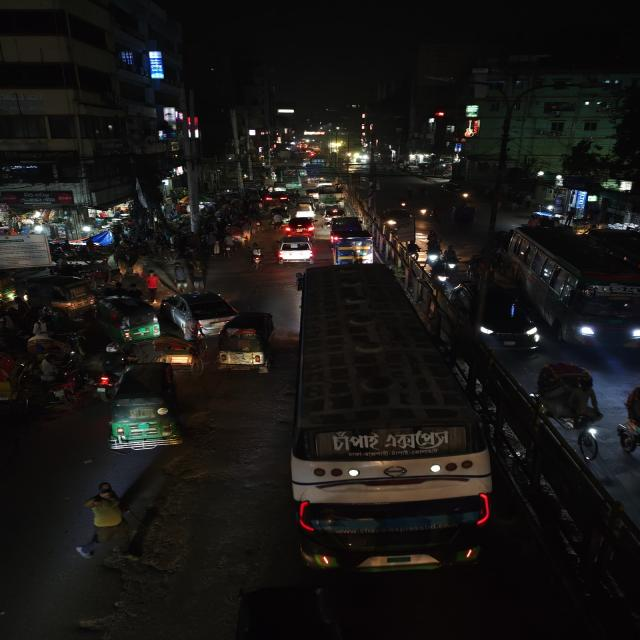bicycle: (272, 214, 282, 234)
bus: (288, 266, 490, 578), (505, 224, 640, 350), (275, 166, 302, 188)
car: (449, 278, 540, 354), (161, 290, 240, 332), (21, 274, 98, 312), (589, 229, 640, 273), (275, 234, 316, 264), (282, 216, 316, 234), (318, 209, 354, 224), (294, 200, 317, 218), (266, 191, 289, 205)
cng: (104, 362, 185, 456), (214, 311, 279, 377), (97, 298, 161, 342), (383, 208, 415, 235), (0, 268, 21, 306), (269, 207, 289, 224)
motorcycle: (86, 358, 124, 398), (439, 244, 462, 272), (248, 242, 266, 270), (396, 194, 410, 210)
pedestrian: (76, 480, 137, 563), (143, 270, 164, 299), (222, 241, 233, 259)
pickup_van: (314, 184, 348, 206)
rickshaw: (533, 360, 604, 444), (214, 312, 280, 376), (31, 356, 82, 408), (151, 332, 204, 370), (0, 348, 29, 416), (22, 326, 70, 360), (426, 205, 451, 228)
truck: (329, 227, 377, 269)
